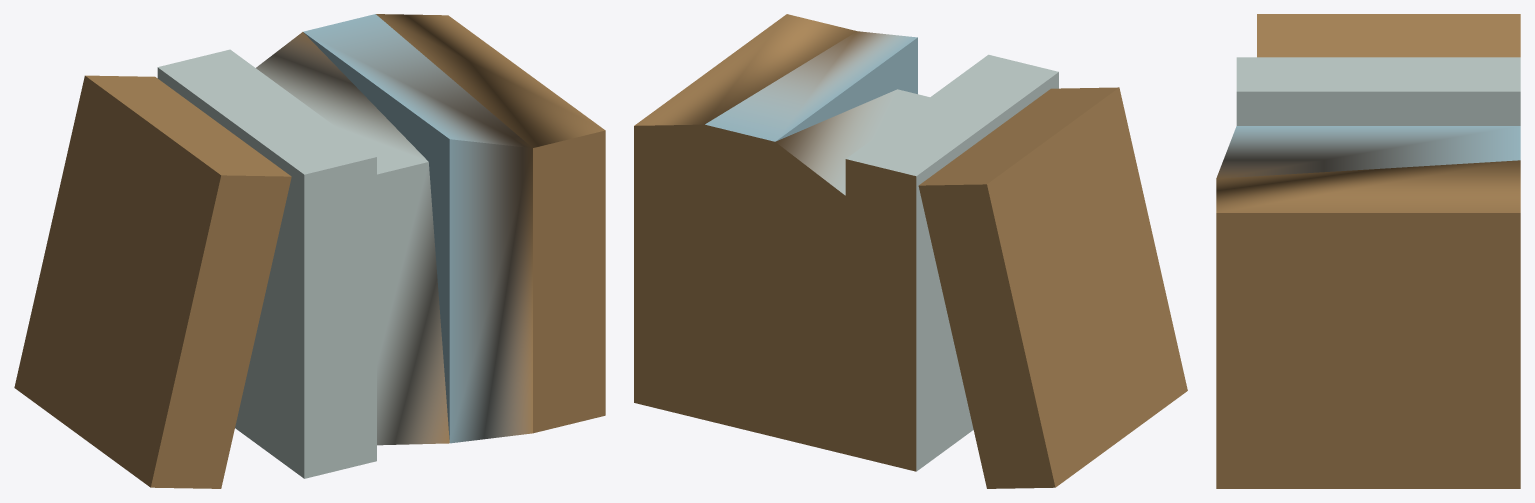
File: cc0-books-lod1.glb
The picture shows the model from 3 angles, left to right: view 1: azimuth 30°, elevation 25°; view 2: azimuth 150°, elevation 25°; view 3: azimuth 270°, elevation 25°; orthographic projection. The views are drawn at different scales.
Visible parts, largest first — view 1: part_0; view 2: part_0; view 3: part_0.
Boxes of the visible parts, x1,y1,x2,y2 form: part_0: (14,14,605,488); part_0: (634,14,1187,488); part_0: (1216,14,1520,488).
Size of the model in its own units: 0.1504 by 0.1039 by 0.0945.
